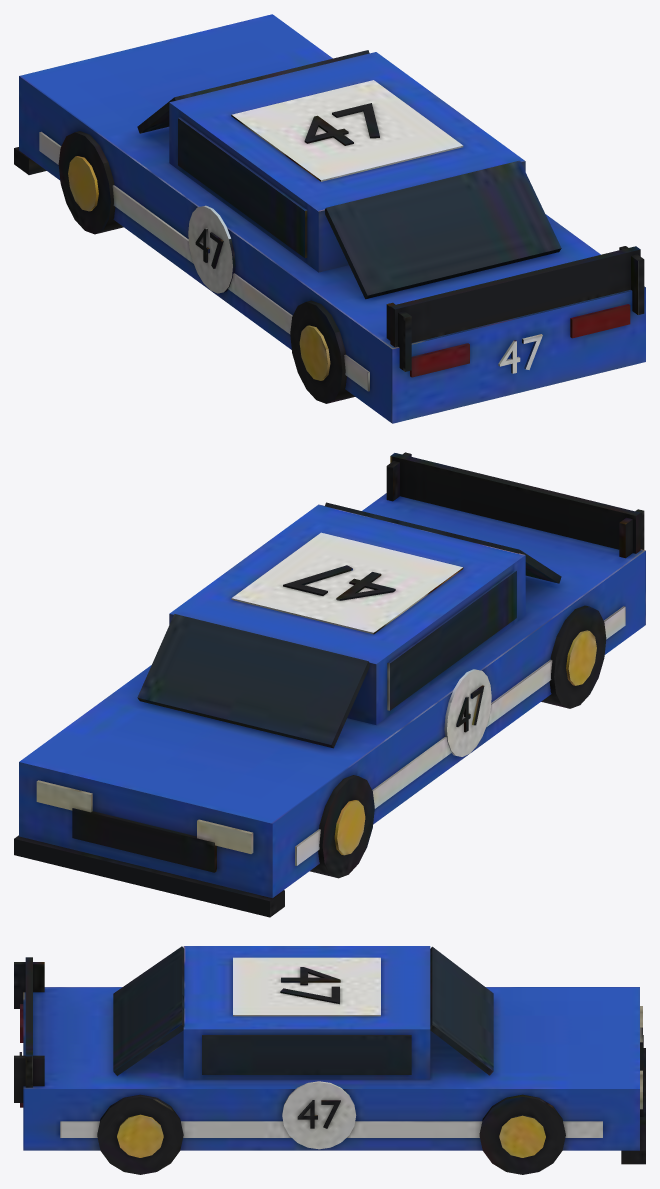
File: stock_car_azul.glb
The picture shows the model from 3 angles, top to bottom: view 1: azimuth 30°, elevation 25°; view 2: azimuth 150°, elevation 25°; view 3: azimuth 270°, elevation 25°; orthographic projection. The views are drawn at different scales.
Parts seen in each view (by area): view 1: stock_car_azul; view 2: stock_car_azul; view 3: stock_car_azul.
Part boxes in pixels (x1=…): stock_car_azul: x1=14, y1=14, x2=645, y2=423; stock_car_azul: x1=14, y1=452, x2=645, y2=917; stock_car_azul: x1=14, y1=946, x2=645, y2=1174.
Bounding box in the file's own units: 2.08 × 1.23 × 5.12.
Materials: 1 (1 with a texture image).
